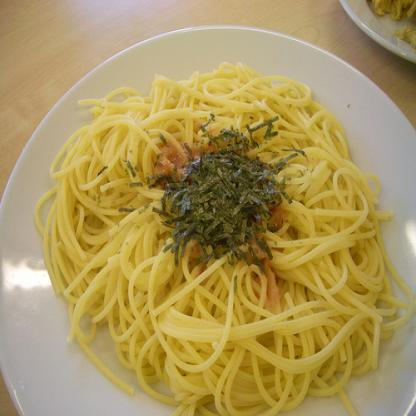Noodles: (31, 62, 415, 415)
